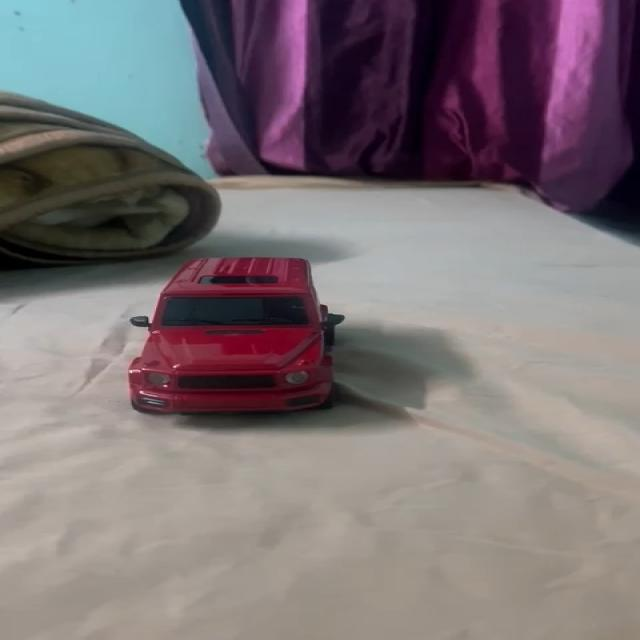light_vehicle: (110, 258, 348, 409)
